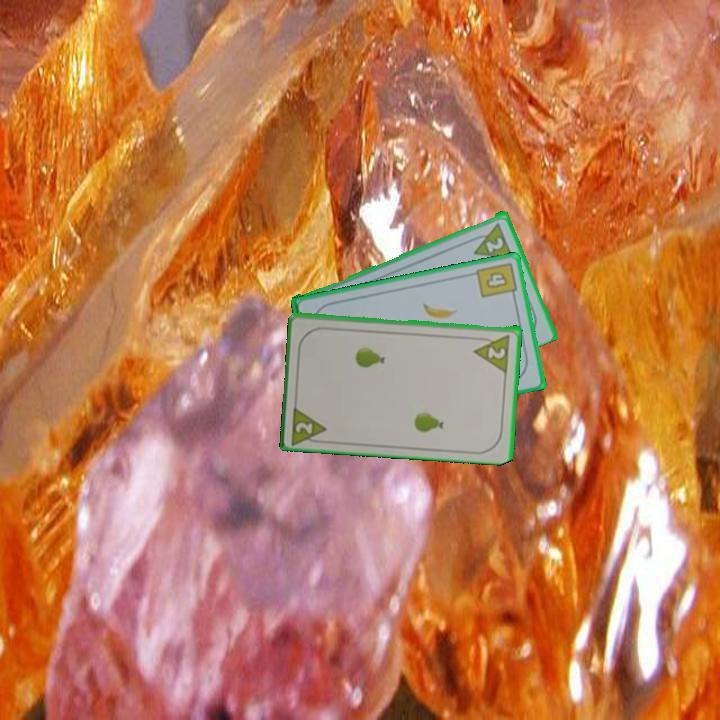2p: (465, 219, 516, 261), (288, 401, 331, 446), (471, 331, 513, 374)
4b: (473, 258, 519, 302)
